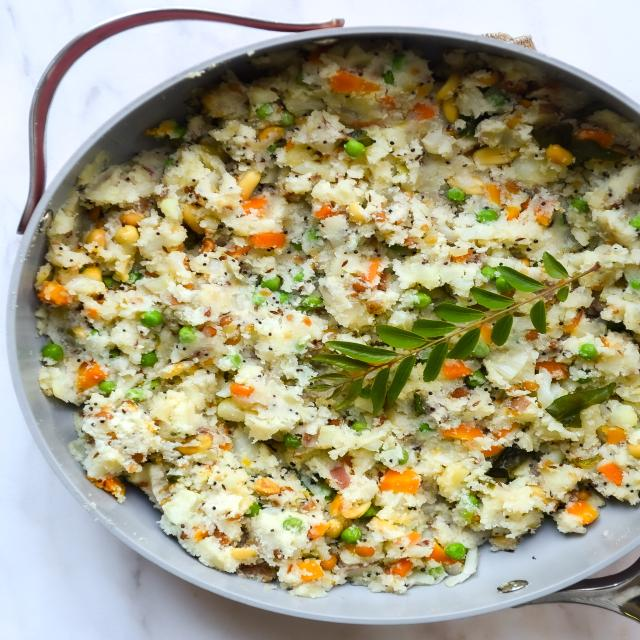UPMA: (30, 39, 639, 592)
